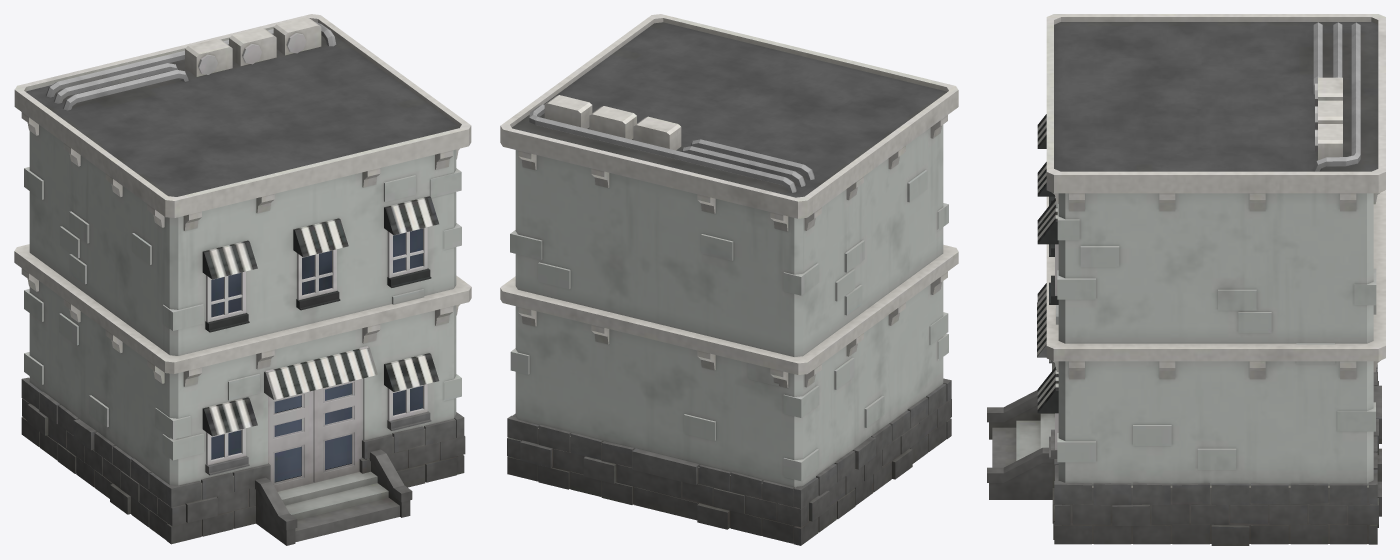
Rendered from 2Story_Double.glb.
3 views of the same model, side by side, from view 1: azimuth 30°, elevation 25°; view 2: azimuth 150°, elevation 25°; view 3: azimuth 270°, elevation 25° (orthographic). The views are drawn at different scales.
Parts seen in each view (by area): view 1: 2Story_Double_high; view 2: 2Story_Double_high; view 3: 2Story_Double_high.
Part boxes in pixels (x1=…): 2Story_Double_high: x1=14, y1=14, x2=471, y2=545; 2Story_Double_high: x1=500, y1=14, x2=958, y2=545; 2Story_Double_high: x1=987, y1=14, x2=1385, y2=545.
Bounding box in the file's own units: 2.42 × 2.75 × 2.53.
2 materials, 2 textured.
